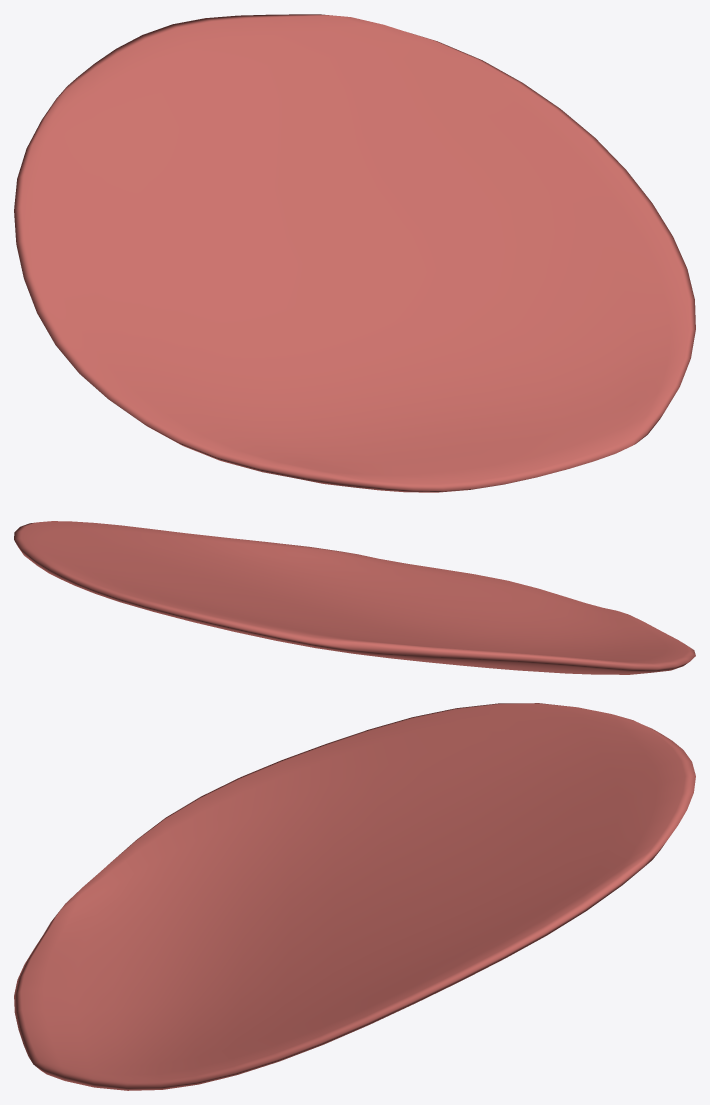
3 renders of one model, top to bottom at view 1: azimuth 30°, elevation 25°; view 2: azimuth 150°, elevation 25°; view 3: azimuth 270°, elevation 25°, orthographic.
Visible parts, largest first — view 1: 左侧髌前腱下囊; view 2: 左侧髌前腱下囊; view 3: 左侧髌前腱下囊.
Part boxes in pixels (x1,y1,x2,y2): 左侧髌前腱下囊: [14, 14, 695, 492]; 左侧髌前腱下囊: [14, 521, 695, 674]; 左侧髌前腱下囊: [14, 703, 695, 1090].
Size of the model in its own units: 0.0363 by 0.0129 by 0.0353.
